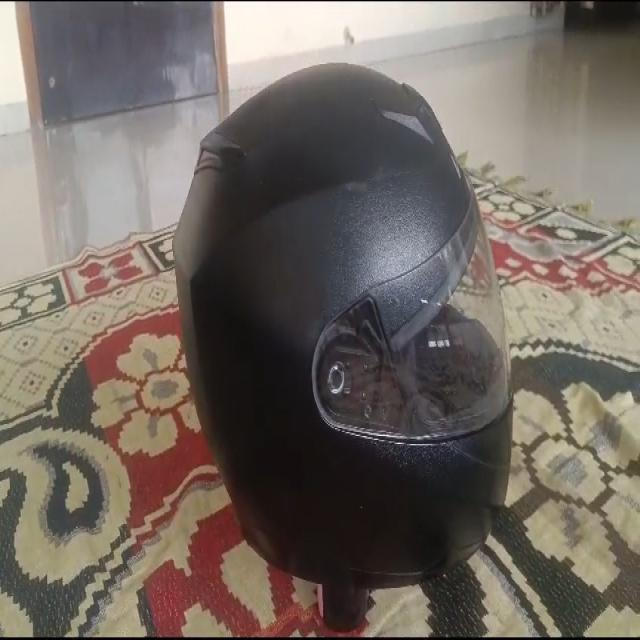Helmet: (174, 64, 512, 628)
